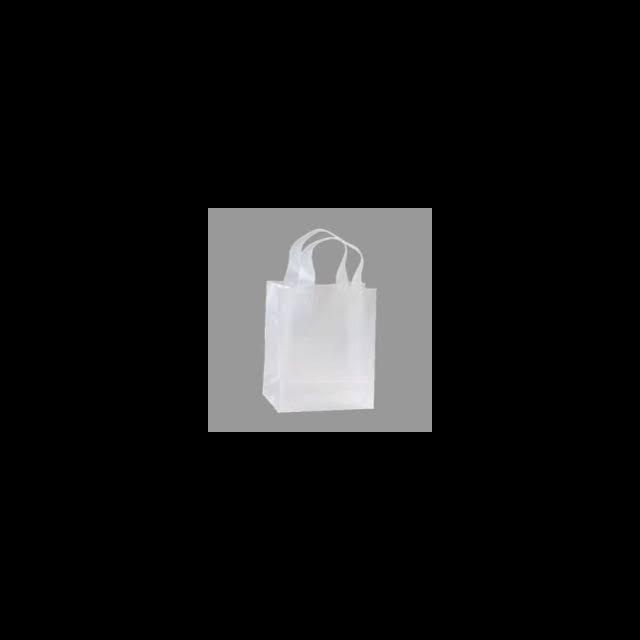plastic: (253, 227, 380, 427)
